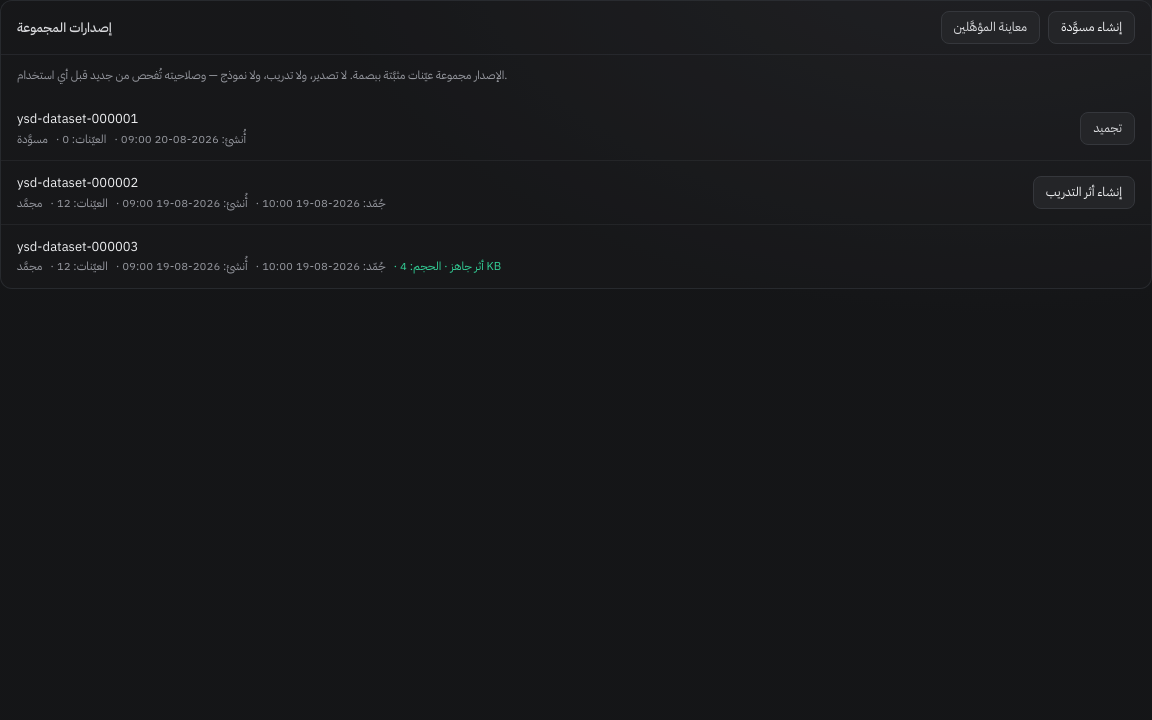
Test: ★ (٣) التأكيد — يسبق الفعل › ★ ★ الضغط يفتح حوارًا بالنصّ المطلوب
Click the button "إنشاء أثر التدريب": (1084, 193) x1=1033 y1=176 x2=1135 y2=209
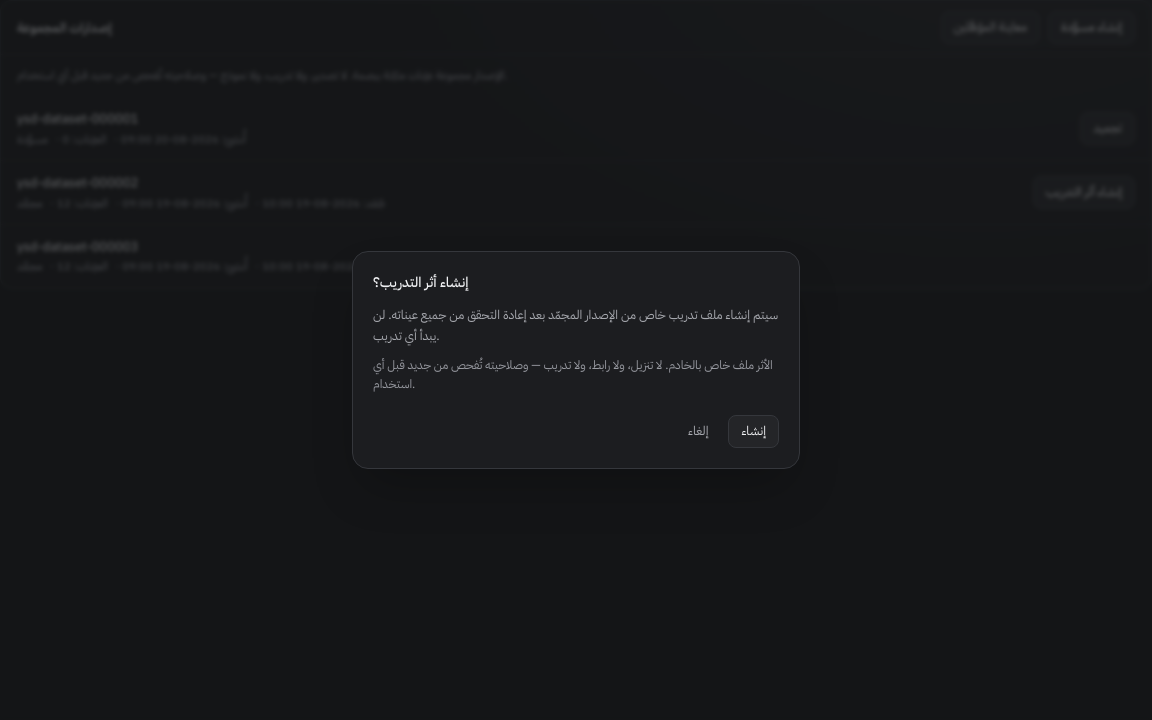
Expected: the dialog is shown, x1=352 y1=251 x2=800 y2=469
Expected: the text "إنشاء أثر التدريب؟" is shown, x1=373 y1=272 x2=468 y2=293
Expected: the text "سيتم إنشاء ملف تدريب خاص من الإصدار المجمّد بعد إعادة التحقق من جميع عيناته" is shown, x1=373 y1=305 x2=778 y2=345
